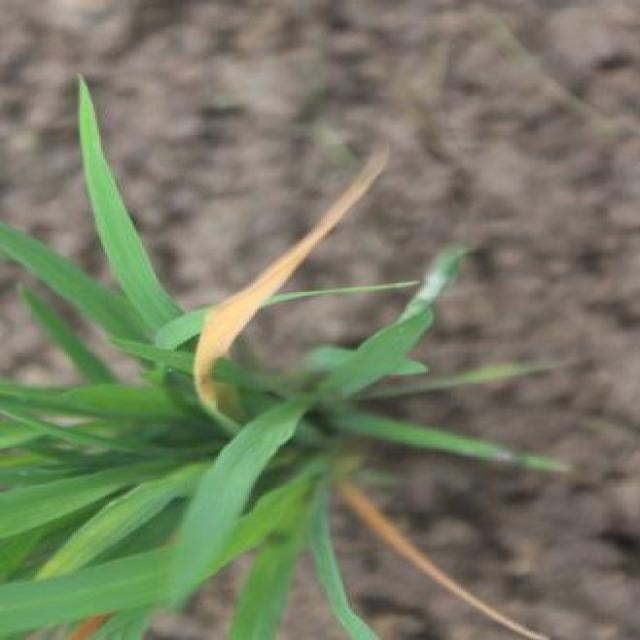Tungro: (169, 169, 402, 424), (333, 470, 616, 640)
